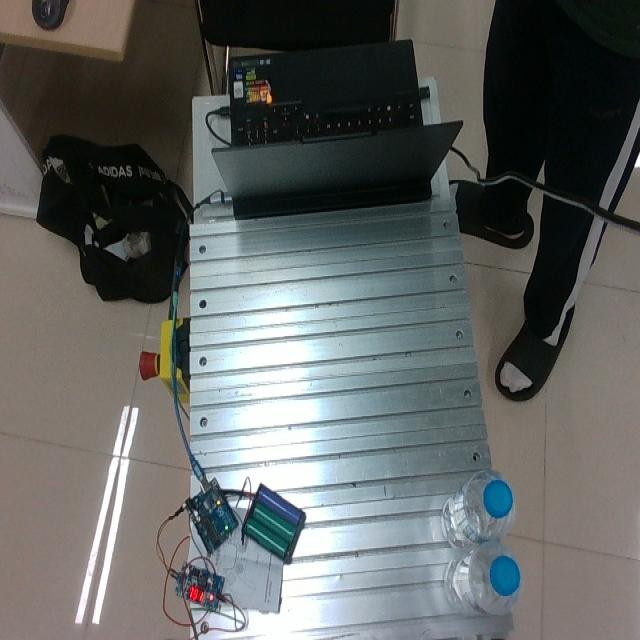lavie: (445, 542, 522, 618), (441, 469, 515, 547)
